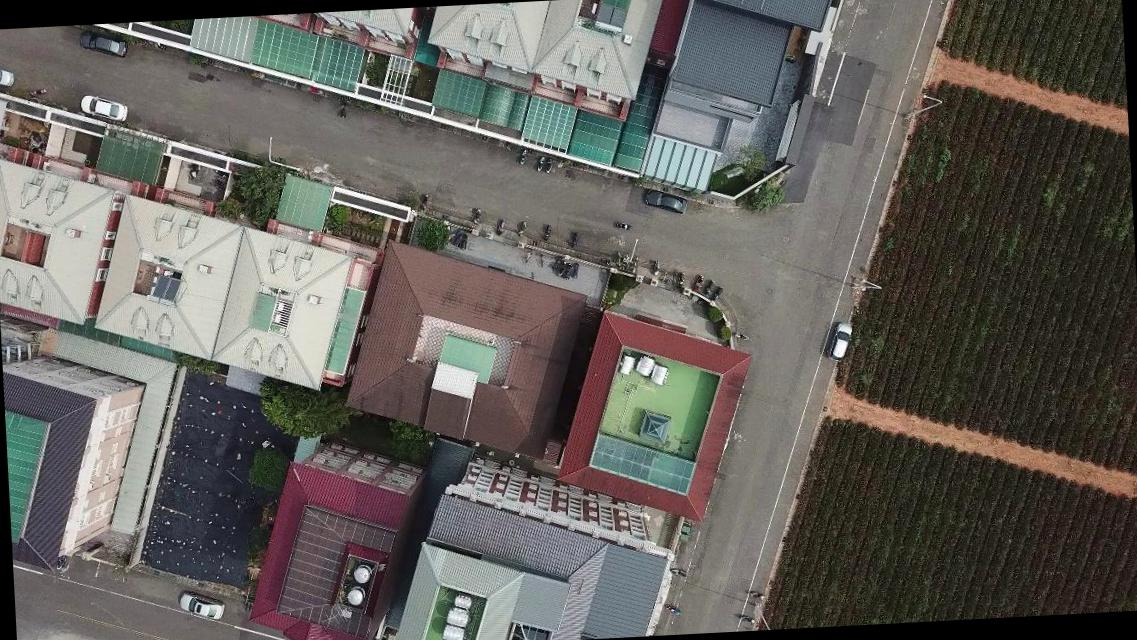vehicle: (176, 590, 226, 622), (824, 320, 854, 364), (644, 188, 688, 218)
